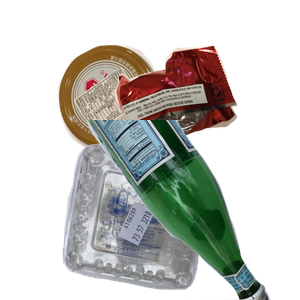glass: (75, 120, 300, 300)
metal: (56, 43, 211, 187)
plastic: (60, 141, 263, 300)
trash: (113, 43, 300, 181)
